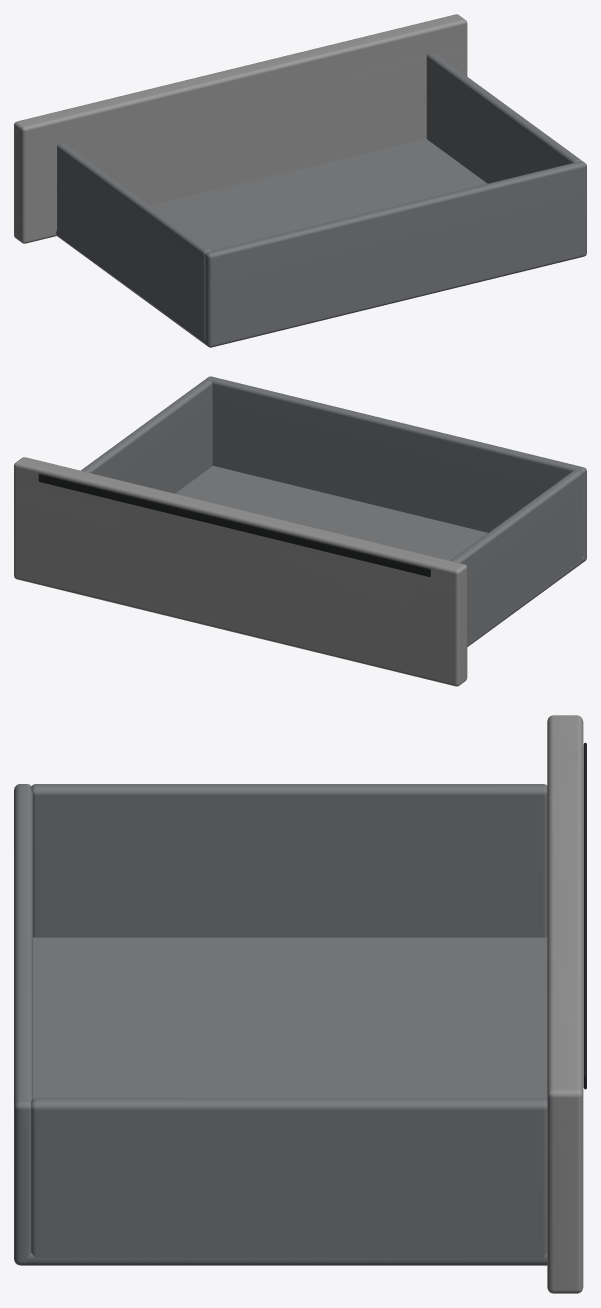
The model's file is range_oven__oven_storage_drawer.glb.
3 renders of one model, top to bottom at view 1: azimuth 30°, elevation 25°; view 2: azimuth 150°, elevation 25°; view 3: azimuth 270°, elevation 25°, orthographic. The views are drawn at different scales.
Parts seen in each view (by area): view 1: drawer; view 2: drawer; view 3: drawer.
Boxes of the visible parts, bbox=[...] form: drawer: bbox=[14, 14, 586, 347]; drawer: bbox=[14, 376, 586, 686]; drawer: bbox=[14, 715, 586, 1293].
Size of the model in its own units: 0.846 by 0.212 by 0.5405.
3 materials, 1 textured.
